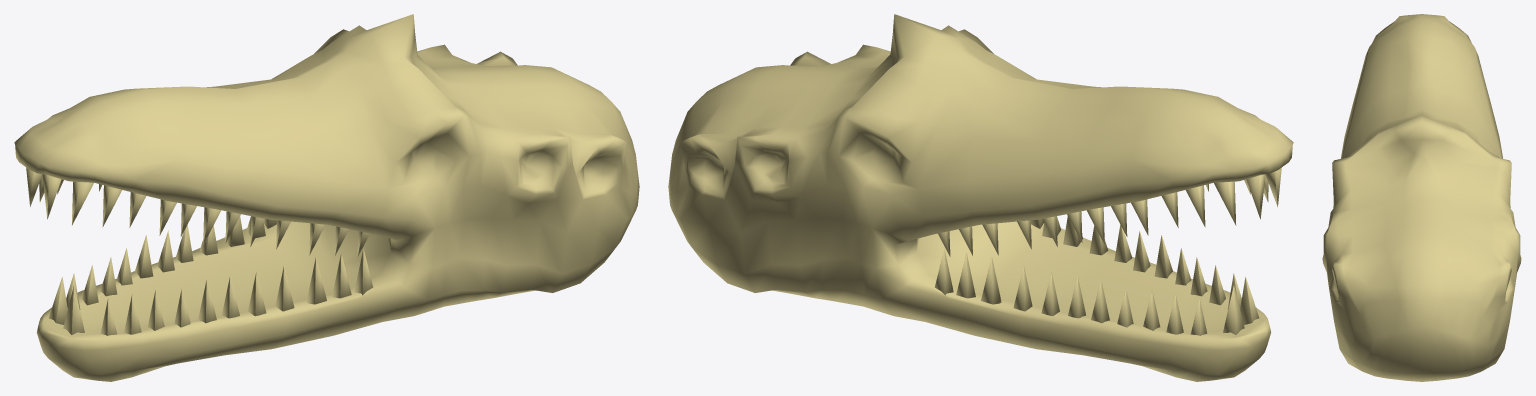
The model's file is Skull.fbx.
3 renders of one model, left to right at view 1: azimuth 30°, elevation 25°; view 2: azimuth 150°, elevation 25°; view 3: azimuth 270°, elevation 25°, orthographic. The views are drawn at different scales.
Visible parts, largest first — view 1: Leviathen-1.001, Leviathen-1; view 2: Leviathen-1.001, Leviathen-1; view 3: Leviathen-1.001.
Boxes of the visible parts, left/top/right/bottom form: Leviathen-1.001: left=14, top=14, right=639, bottom=381; Leviathen-1: left=26, top=167, right=373, bottom=335; Leviathen-1.001: left=668, top=14, right=1293, bottom=381; Leviathen-1: left=934, top=167, right=1281, bottom=335; Leviathen-1.001: left=1322, top=14, right=1521, bottom=381.
Size of the model in its own units: 1969 by 872 by 754.
